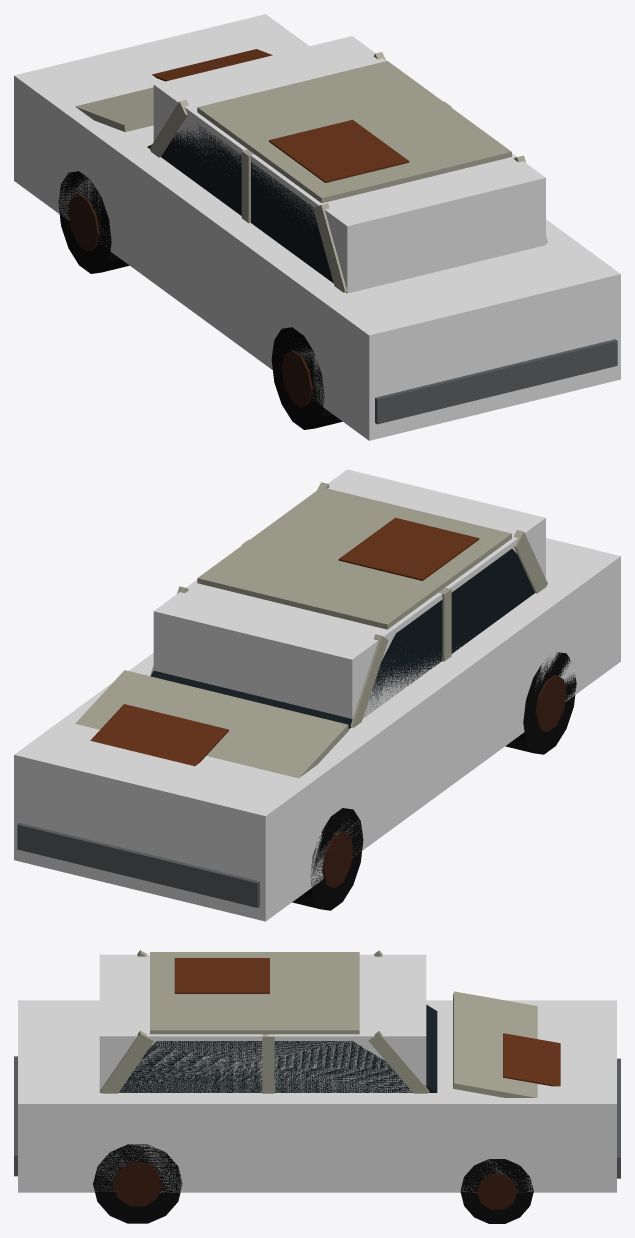
File: WreckedCar_White.fbx
3 renders of one model, top to bottom at view 1: azimuth 30°, elevation 25°; view 2: azimuth 150°, elevation 25°; view 3: azimuth 270°, elevation 25°, orthographic. The views are drawn at different scales.
Parts seen in each view (by area): view 1: COL_WreckedCar_White_Body, WreckedCar_White, COL_WreckedCar_White_Cabin; view 2: COL_WreckedCar_White_Body, WreckedCar_White, COL_WreckedCar_White_Cabin; view 3: COL_WreckedCar_White_Body, WreckedCar_White, COL_WreckedCar_White_Cabin.
Part boxes in pixels (bbox=[...]): COL_WreckedCar_White_Body: bbox=[14, 14, 620, 440]; WreckedCar_White: bbox=[58, 49, 617, 429]; COL_WreckedCar_White_Cabin: bbox=[153, 36, 545, 293]; COL_WreckedCar_White_Body: bbox=[14, 538, 620, 921]; WreckedCar_White: bbox=[17, 482, 576, 910]; COL_WreckedCar_White_Cabin: bbox=[153, 469, 545, 718]; COL_WreckedCar_White_Body: bbox=[18, 1000, 616, 1192]; WreckedCar_White: bbox=[14, 950, 620, 1223]; COL_WreckedCar_White_Cabin: bbox=[99, 954, 426, 1092].
Bounding box in the file's own units: 1.83 × 1.48 × 4.46.
